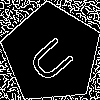U: (26, 28, 83, 86)
